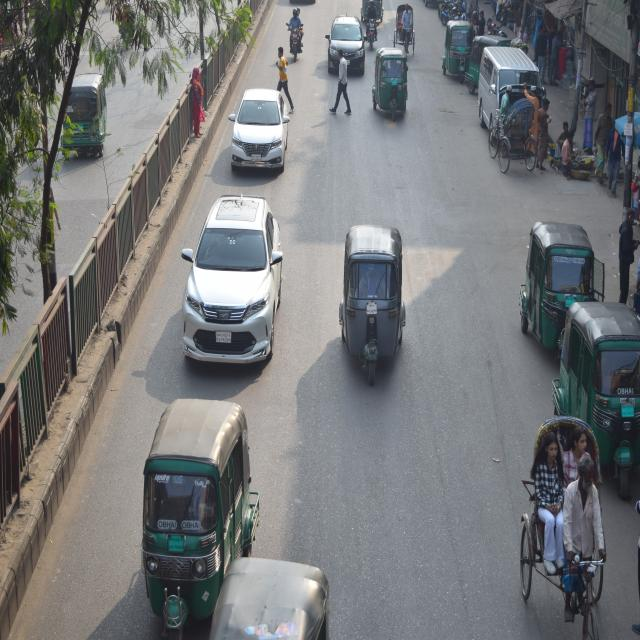car: (174, 193, 286, 367), (226, 81, 288, 169), (324, 8, 366, 74)
microbus: (476, 34, 543, 139)
motorbike: (287, 20, 309, 74), (363, 12, 381, 62)
